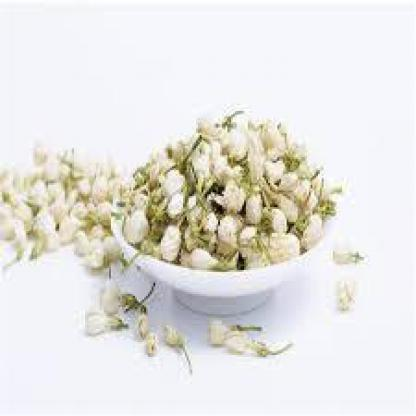Melati: (1, 59, 369, 364)
